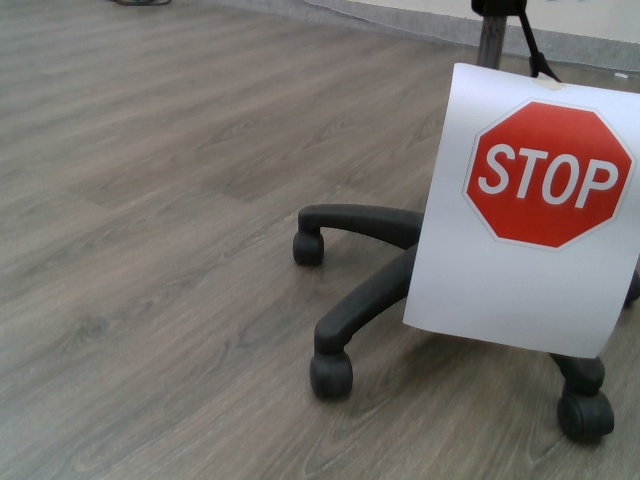stop: (461, 96, 639, 253)
